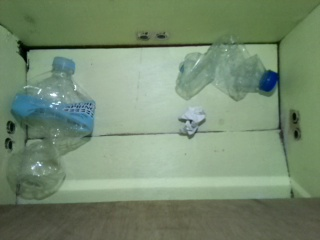damaged-bottle: (7, 54, 97, 200), (174, 32, 280, 111)
paper: (177, 107, 206, 139)
